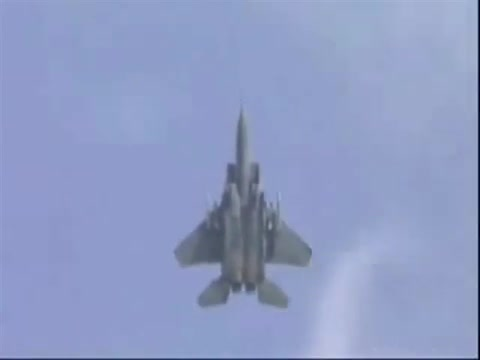aeroplane: (174, 96, 315, 311)
